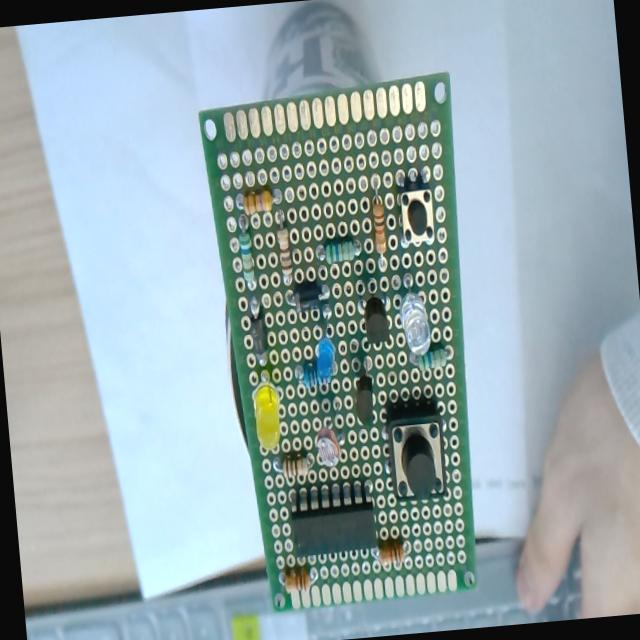IC: (290, 482, 379, 558)
cds: (311, 410, 350, 471)
diode: (292, 280, 328, 313), (249, 312, 270, 364)
led: (398, 291, 432, 357), (252, 384, 284, 452)
resistor: (368, 180, 388, 258), (238, 232, 255, 285), (299, 360, 330, 389), (277, 228, 293, 280), (243, 189, 274, 215), (378, 538, 404, 568), (284, 454, 310, 483), (284, 566, 310, 594), (416, 347, 446, 371), (325, 240, 355, 263)
switch: (384, 406, 448, 504), (398, 180, 436, 247)
transistor: (351, 278, 398, 352), (352, 360, 376, 428)
